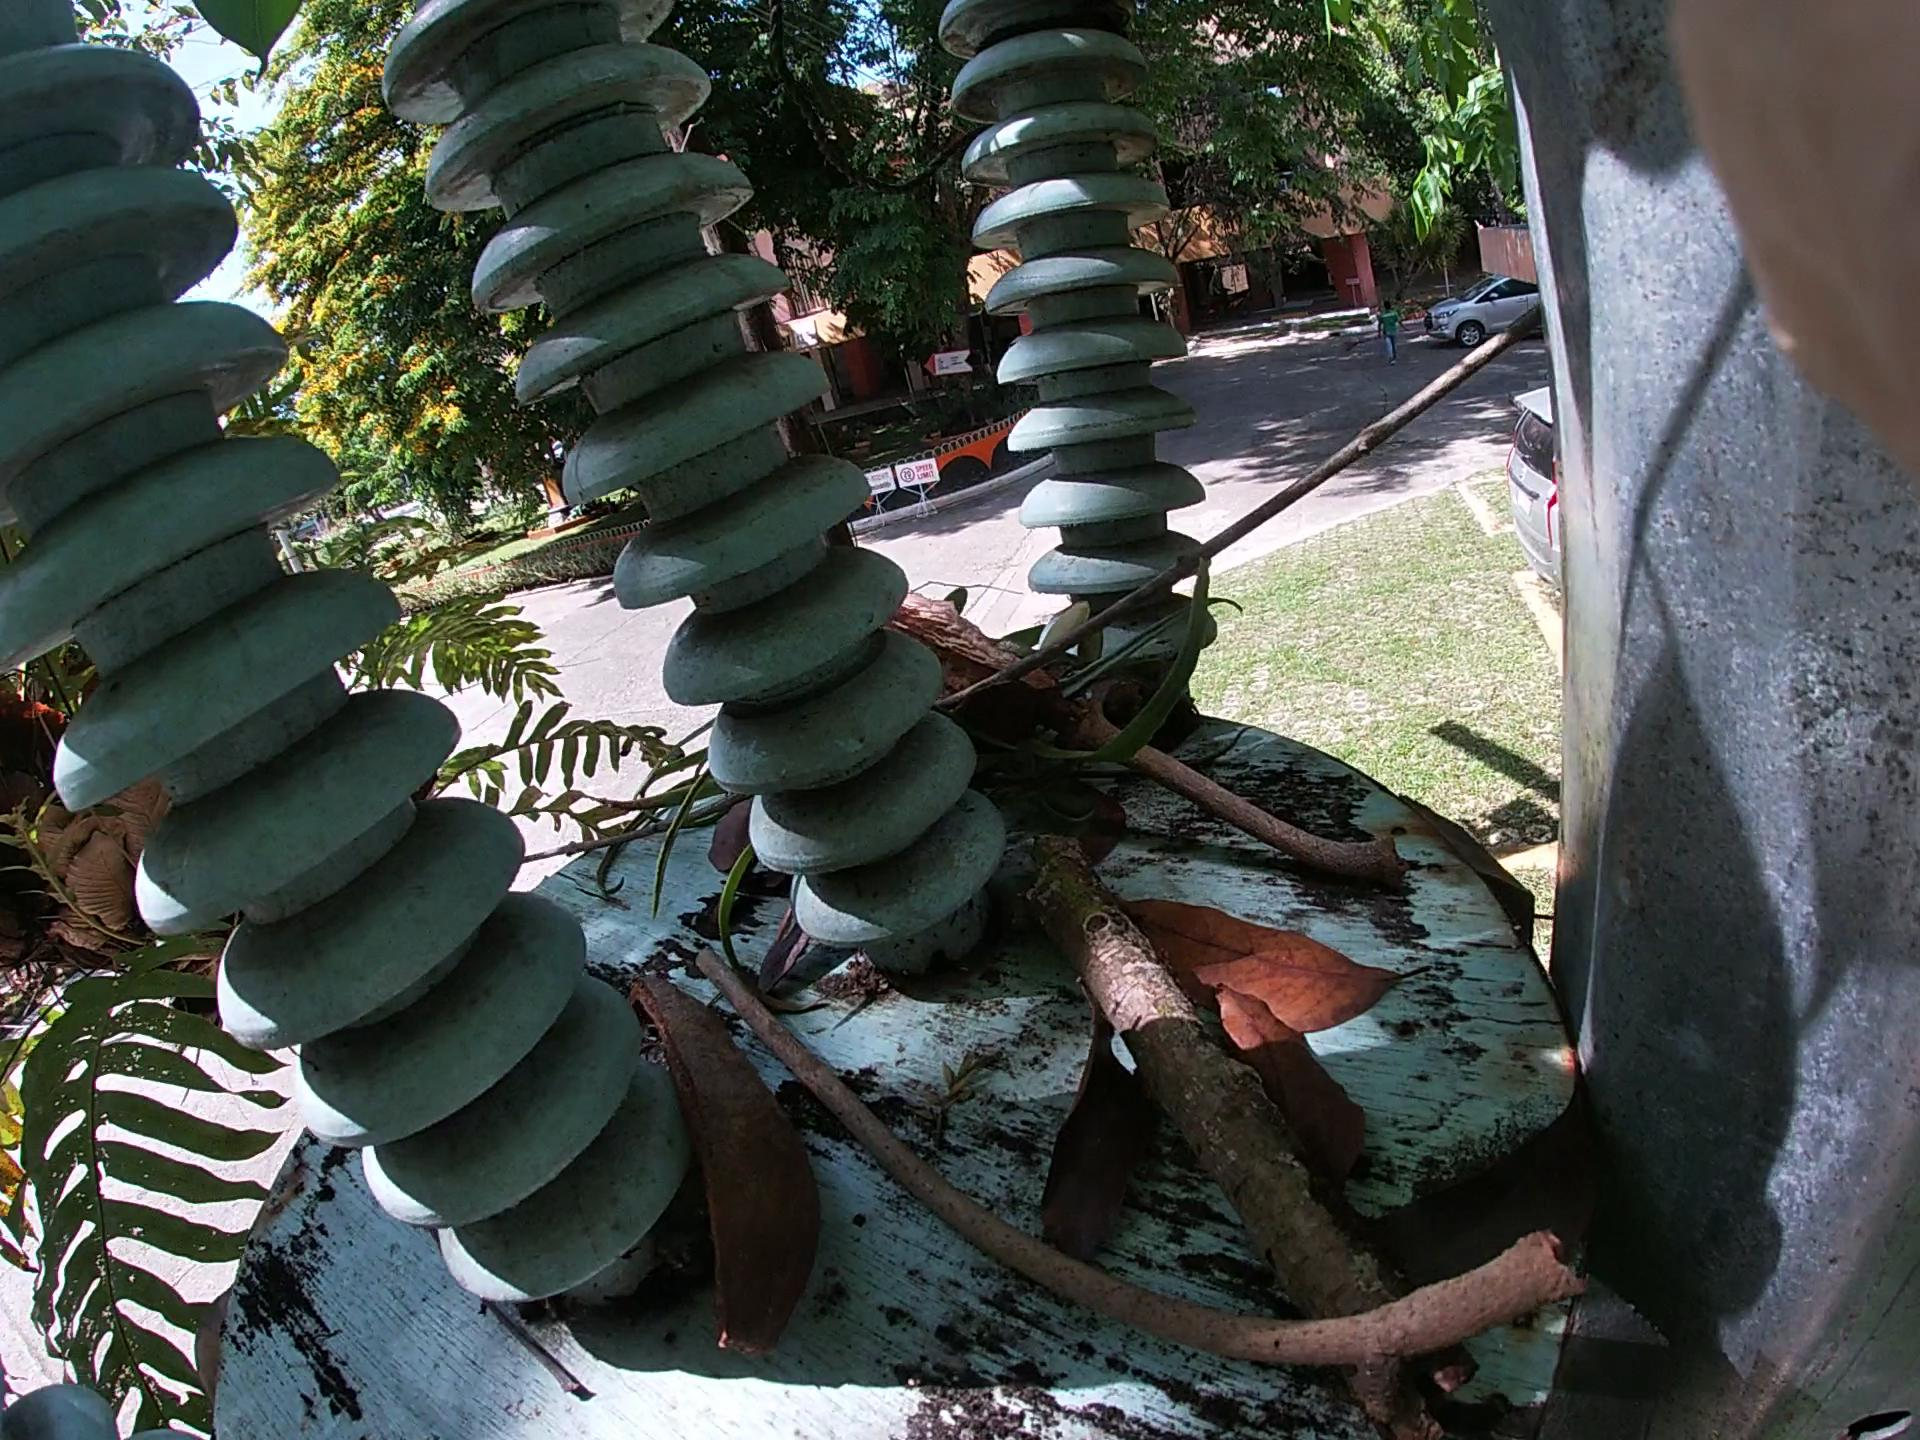branch with leaves: (996, 762, 1465, 1440)
leaf: (1197, 906, 1438, 1240)
tree branch: (937, 182, 1578, 781), (697, 923, 1568, 1352), (937, 620, 1569, 929)
